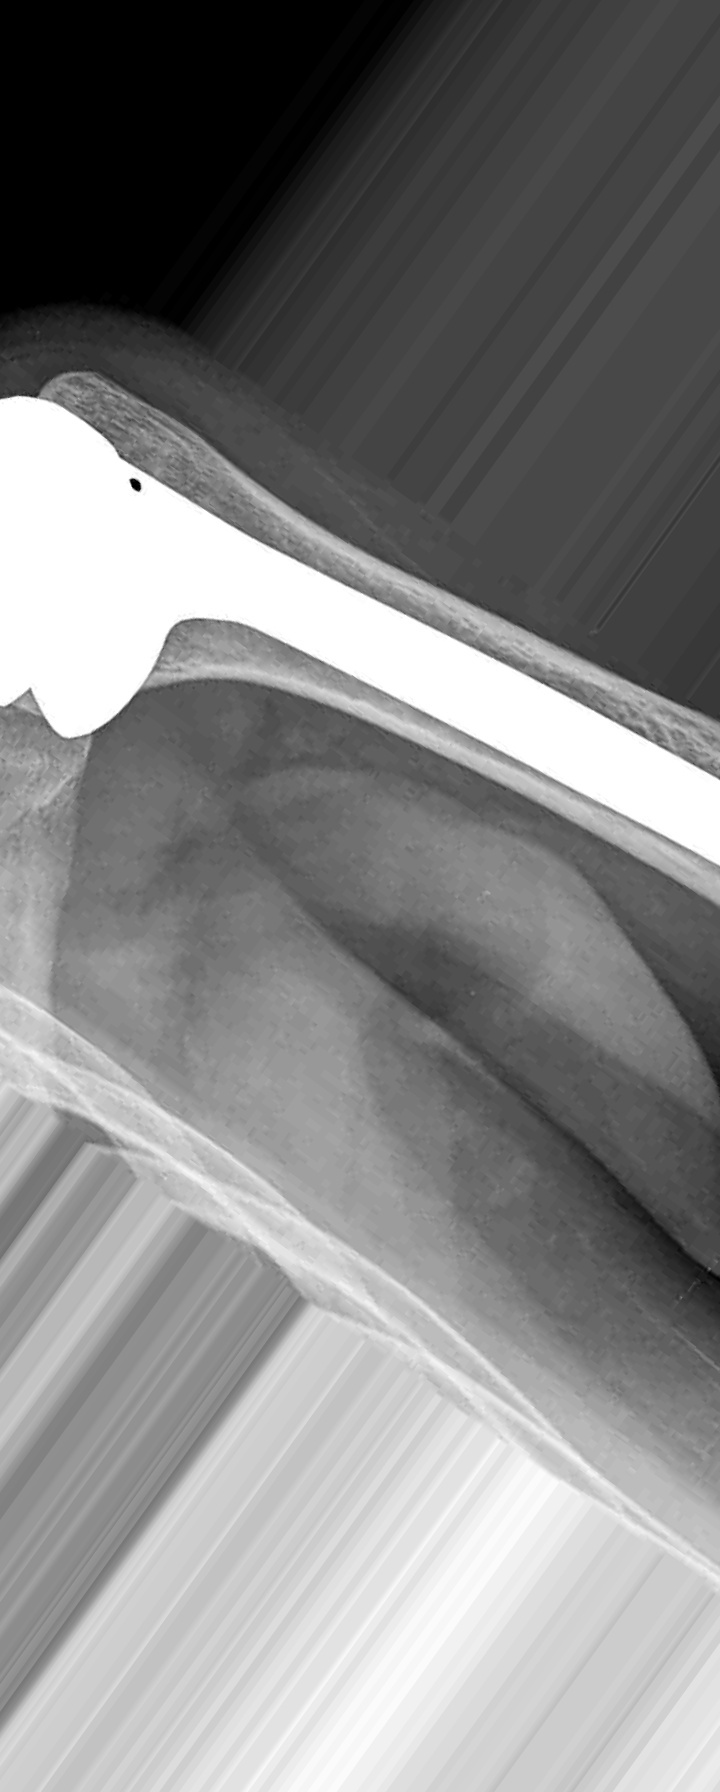Shoulder-Reverse-DJO: (1, 383, 720, 875)
